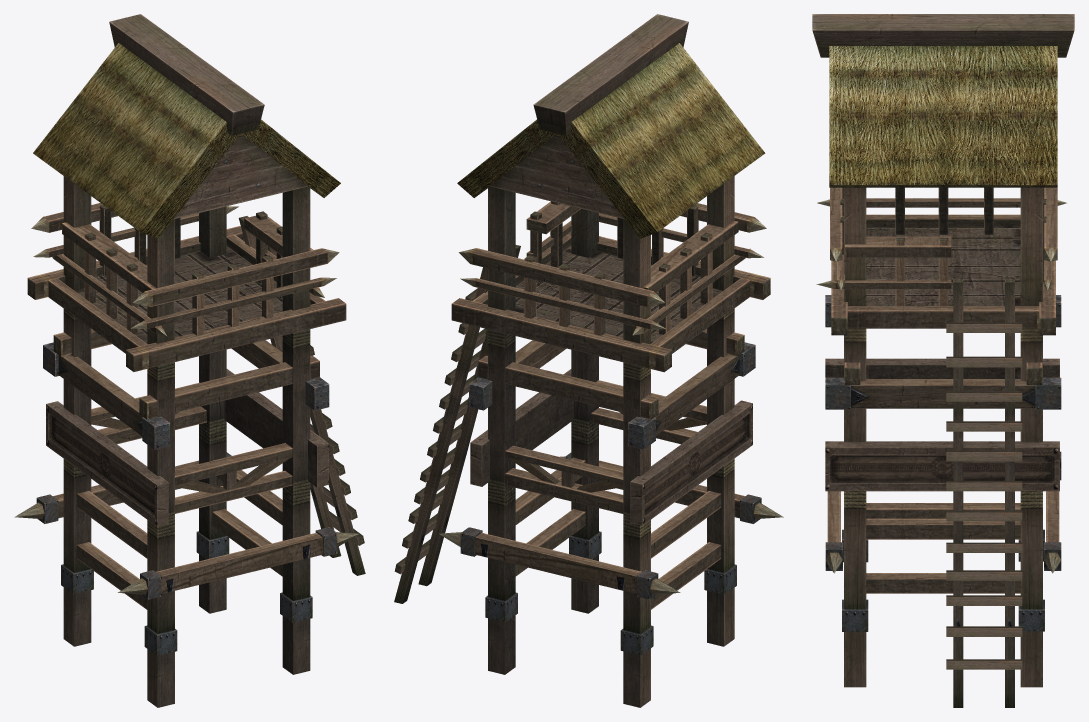
File: fortms_watchtower.glb
The picture shows the model from 3 angles, left to right: view 1: azimuth 30°, elevation 25°; view 2: azimuth 150°, elevation 25°; view 3: azimuth 270°, elevation 25°; orthographic projection. The views are drawn at different scales.
Visible parts, largest first — view 1: fortMS_watchtower; view 2: fortMS_watchtower; view 3: fortMS_watchtower.
Part boxes in pixels (box(x1,y1,x2,y2)): fortMS_watchtower: box(14, 14, 365, 707); fortMS_watchtower: box(394, 14, 783, 707); fortMS_watchtower: box(812, 14, 1074, 707).
Bounding box in the file's own units: 7.81 × 14.51 × 5.51.
Materials: 1 (1 with a texture image).
